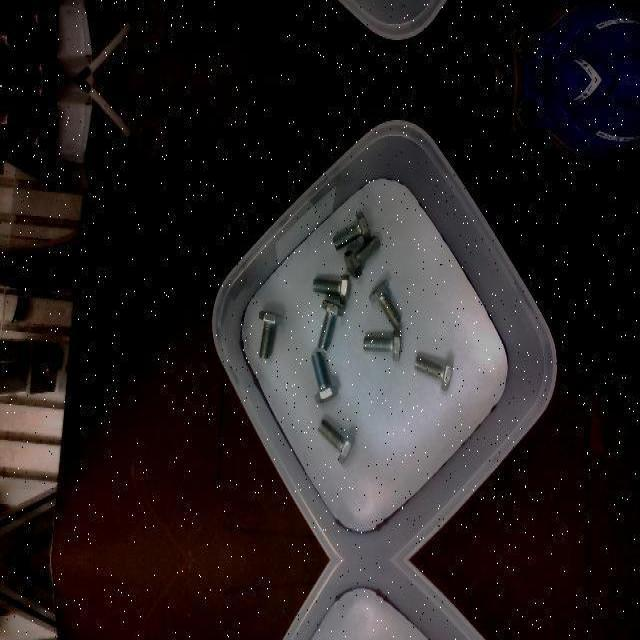screw: (316, 419, 354, 465), (368, 278, 401, 328), (344, 235, 381, 277), (332, 211, 370, 251), (311, 352, 338, 404), (317, 299, 344, 349), (414, 357, 453, 391), (363, 330, 401, 362), (259, 310, 282, 360), (312, 273, 350, 303)
